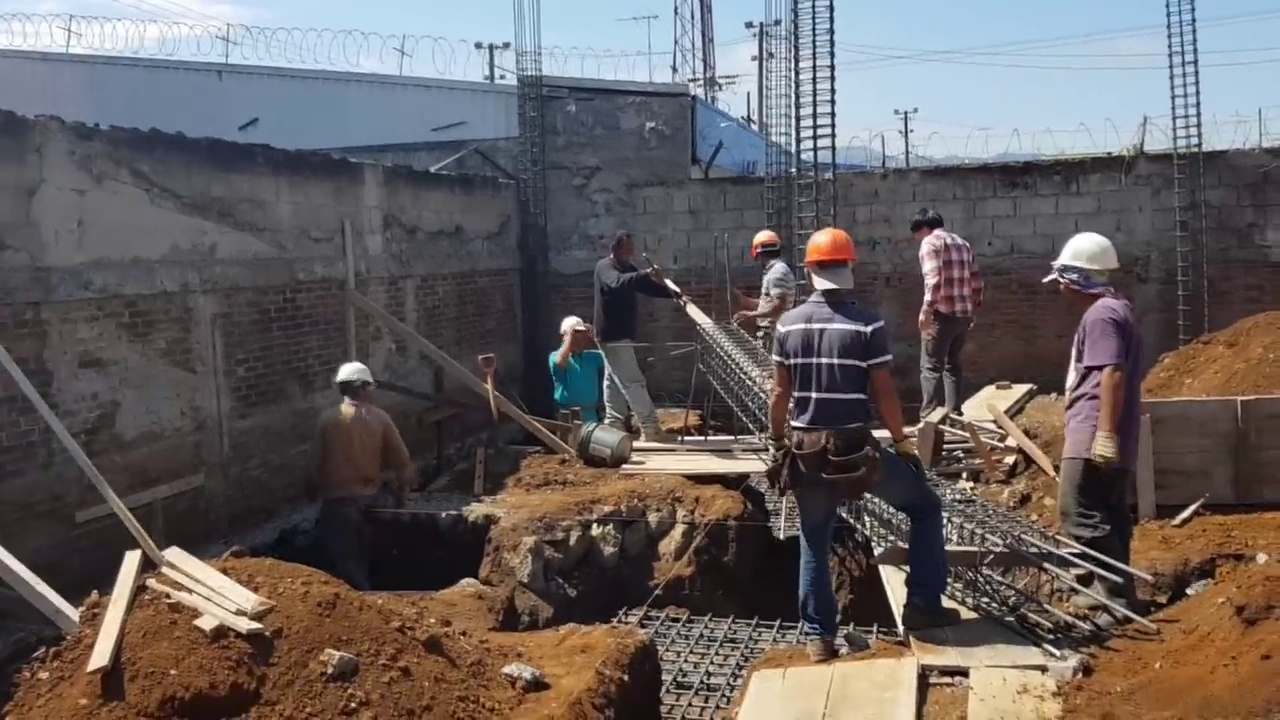helmet: (1051, 227, 1125, 274), (806, 226, 857, 266), (496, 671, 549, 707), (331, 362, 377, 390), (748, 229, 781, 253)
helmet-off: (557, 315, 590, 353), (913, 205, 949, 239), (606, 237, 637, 265)
helmet-on: (1051, 231, 1129, 308), (809, 227, 865, 298), (327, 365, 374, 416), (752, 228, 781, 268)
person: (767, 214, 926, 644), (1050, 242, 1143, 600), (304, 359, 407, 596), (908, 203, 981, 459), (598, 235, 686, 437), (547, 314, 611, 425), (745, 235, 798, 346)
